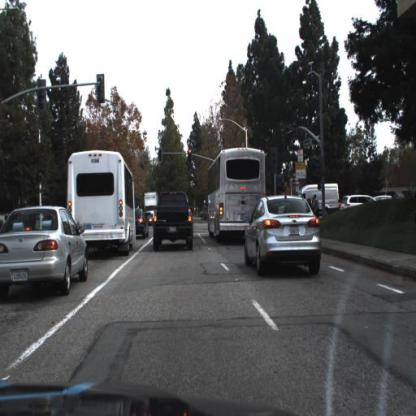car: (1, 204, 90, 299), (244, 193, 321, 272), (154, 191, 194, 251), (296, 181, 340, 213), (299, 183, 342, 214), (136, 206, 151, 240), (135, 210, 150, 240)
trafficLight-Red: (188, 147, 196, 167), (158, 148, 164, 164), (188, 148, 192, 164)
truck: (68, 147, 137, 254), (206, 147, 267, 247)
